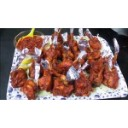chicken_lollipop: (39, 52, 71, 98), (73, 53, 94, 95), (23, 57, 42, 99), (12, 50, 29, 89), (85, 28, 107, 57), (45, 27, 62, 61), (64, 27, 82, 58), (109, 40, 120, 87)
